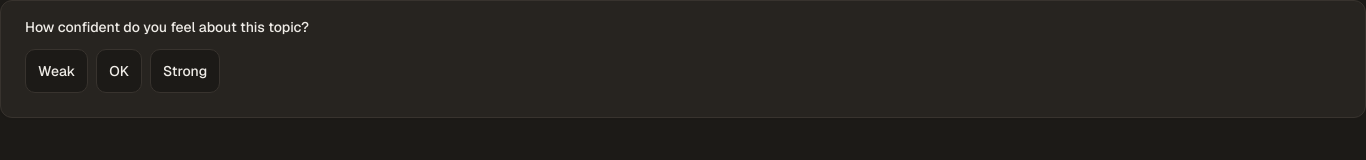
ConfidenceCalibration › shows dropped delta when confidence decreased
Click the button with test id "rating-strong": x=185, y=71 [150,49,220,93]
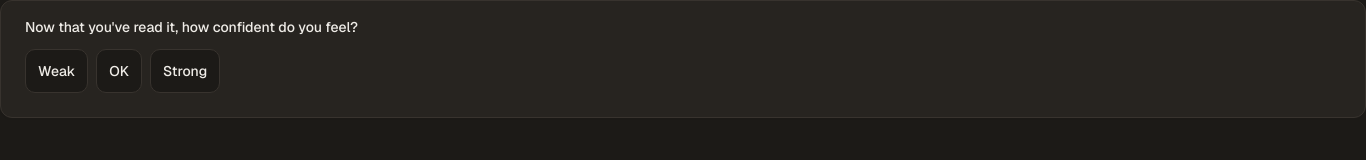
Click the button with test id "rating-weak": x=57, y=71 [25,49,88,93]
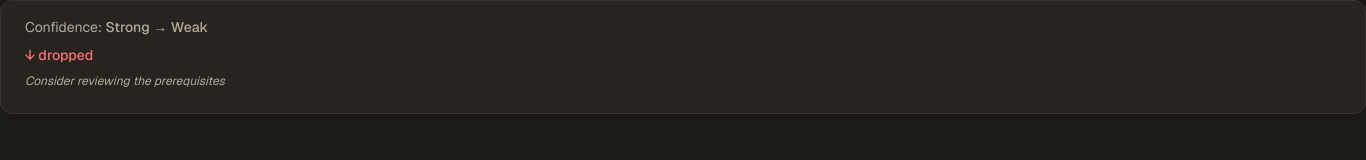
expect the text with test id "delta-indicator" shows "dropped": met, box [25,46,93,64]
